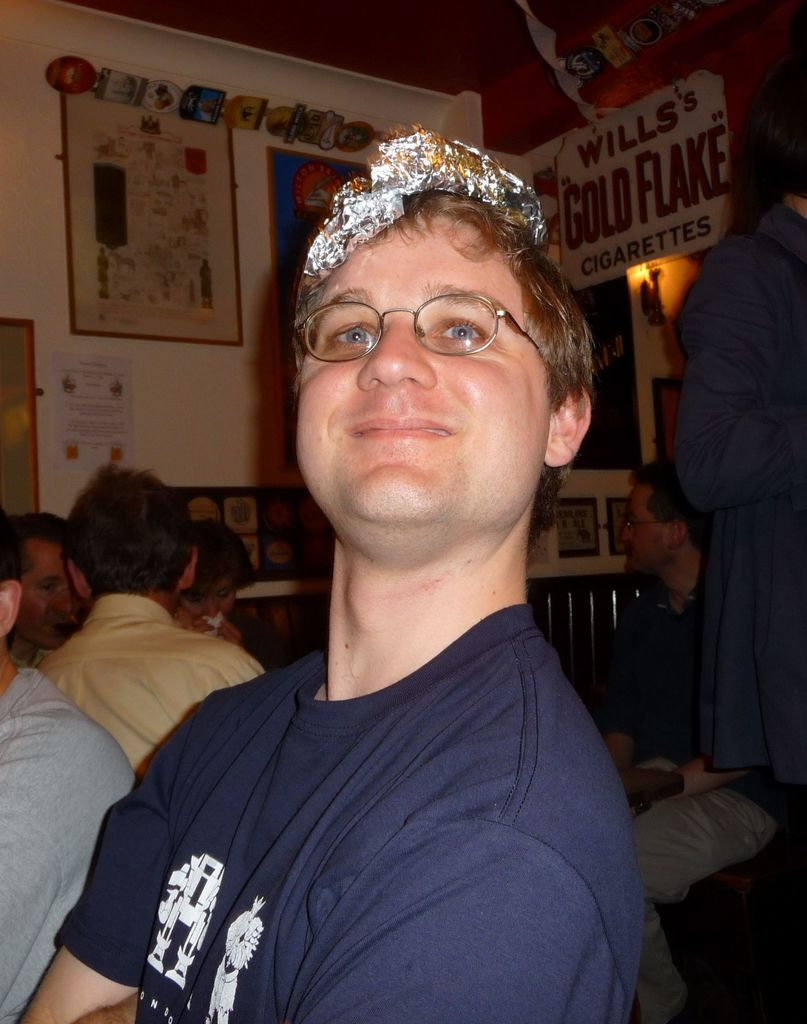Human-face: (299, 211, 548, 554), (14, 533, 72, 657), (614, 474, 667, 580), (181, 575, 231, 627)
